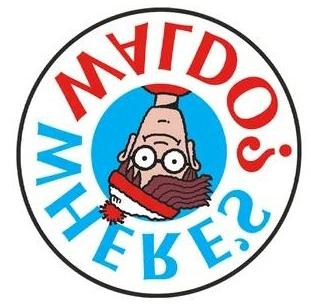waldos: (99, 84, 215, 226)
